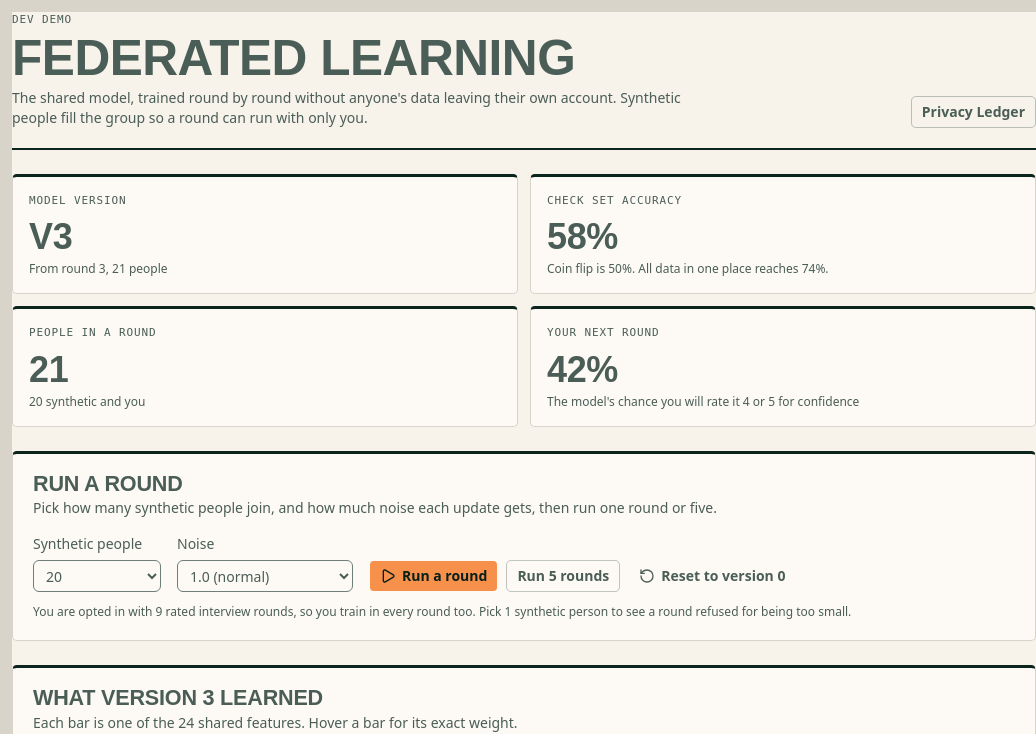
Test: FederatedLearningDemoPage › explains a refused round
Click the button "Run a round". click: [434, 576]
box: [369, 560, 498, 592]
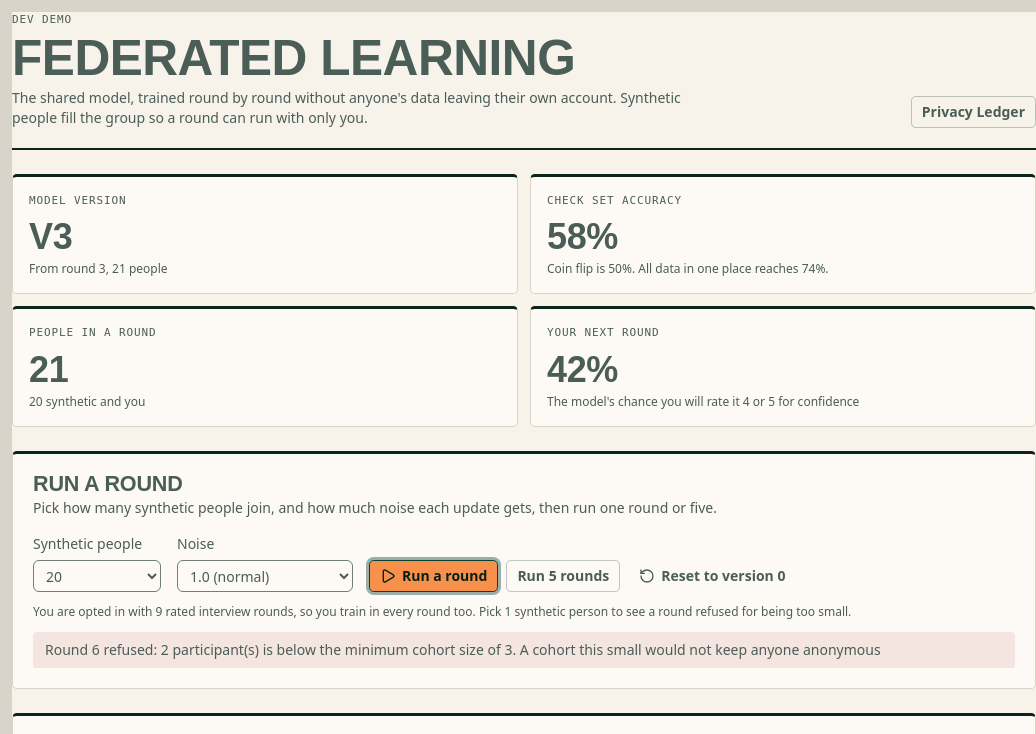
Check: the text "Round 6 refused: 2 participant(s) is below the minimum cohort size of 3" is shown, box [45, 640, 881, 659]
